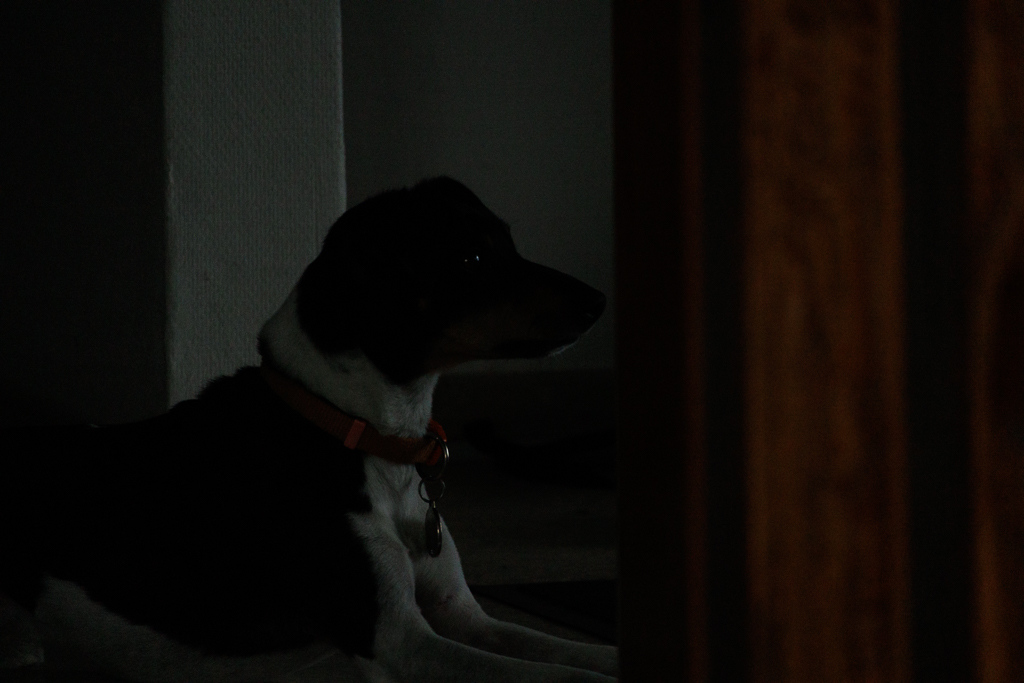Dog: (0, 160, 634, 683)
